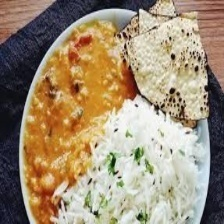rice: (79, 96, 198, 224)
